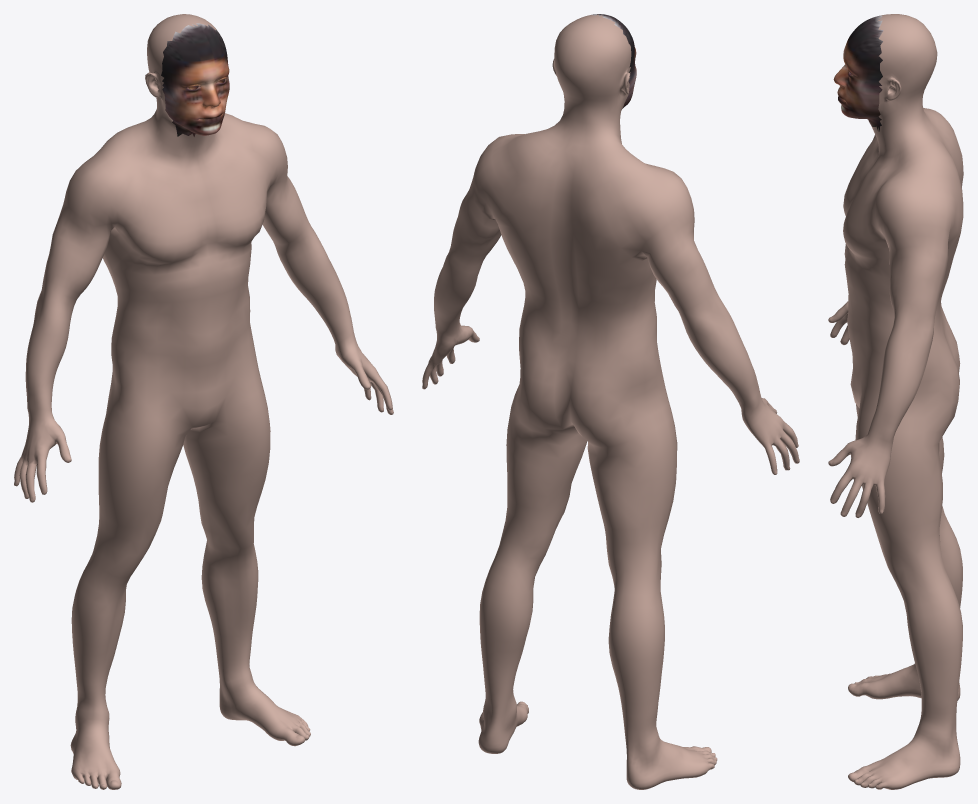
The model's file is avatar.glb.
The picture shows the model from 3 angles, left to right: view 1: azimuth 30°, elevation 25°; view 2: azimuth 150°, elevation 25°; view 3: azimuth 270°, elevation 25°; orthographic projection.
Visible parts, largest first — view 1: Body; view 2: Body; view 3: Body.
Boxes of the visible parts, x1,y1,x2,y2 form: Body: [14, 14, 393, 789]; Body: [422, 14, 799, 789]; Body: [828, 14, 963, 789].
Size of the model in its own units: 0.9314 by 1.8 by 0.3057.
2 materials, 1 textured.
